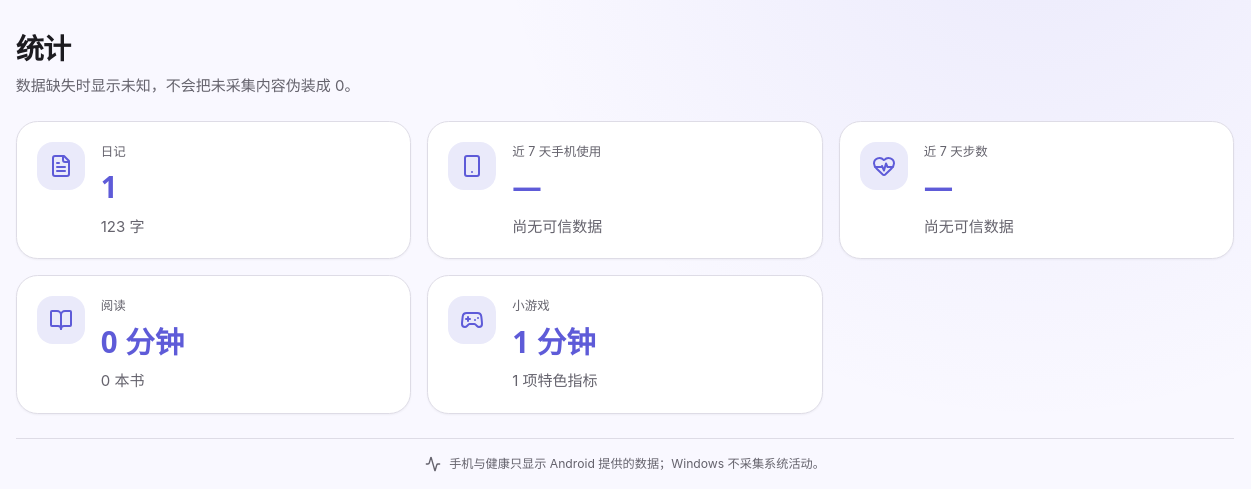
Test: StatsPage › keeps unavailable phone and health values unknown instead of fabricating zero
The image size is (1251, 489).
Check: the text "123 字" is shown, box [101,217,144,236]
What coordinates should you click on to do the following:
click the button "近 7 天步数 — 尚无可信数据"
I would click on:
 (884, 166)
Its box is [839,121,1234,259].
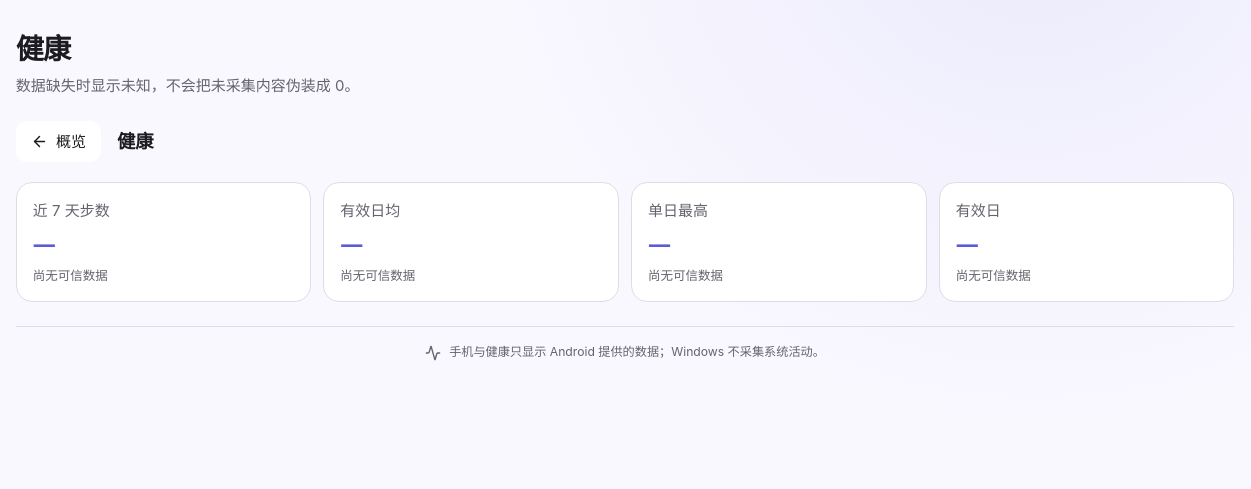
Check: the text "近 7 天步数" is shown, box [33,201,110,220]
Check: the text "—" below "近 7 天步数" is shown, box [33,227,56,259]
